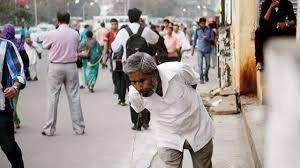spitting: (112, 48, 224, 168)
